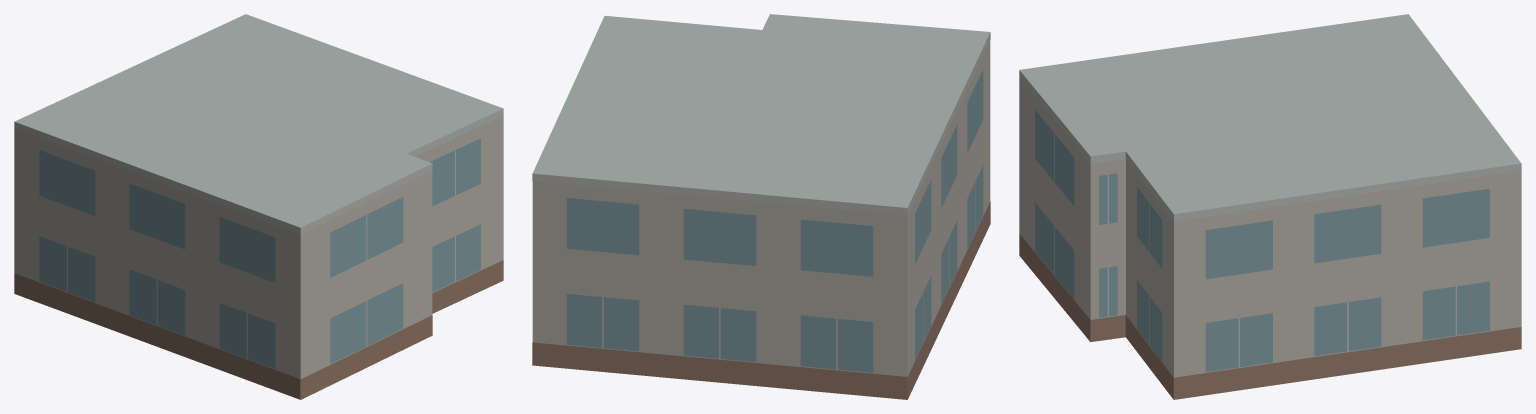
Rendered from survey-upis-32690114.glb.
The picture shows the model from 3 angles, left to right: view 1: azimuth 30°, elevation 25°; view 2: azimuth 150°, elevation 25°; view 3: azimuth 270°, elevation 25°; orthographic projection. The views are drawn at different scales.
Visible parts, largest first — view 1: survey-upis-32690114.tmp; view 2: survey-upis-32690114.tmp; view 3: survey-upis-32690114.tmp.
Boxes of the visible parts, bbox=[...] form: survey-upis-32690114.tmp: bbox=[14, 14, 503, 399]; survey-upis-32690114.tmp: bbox=[532, 14, 990, 399]; survey-upis-32690114.tmp: bbox=[1019, 14, 1521, 399].
Size of the model in its own units: 14.13 by 6.1 by 14.97.
